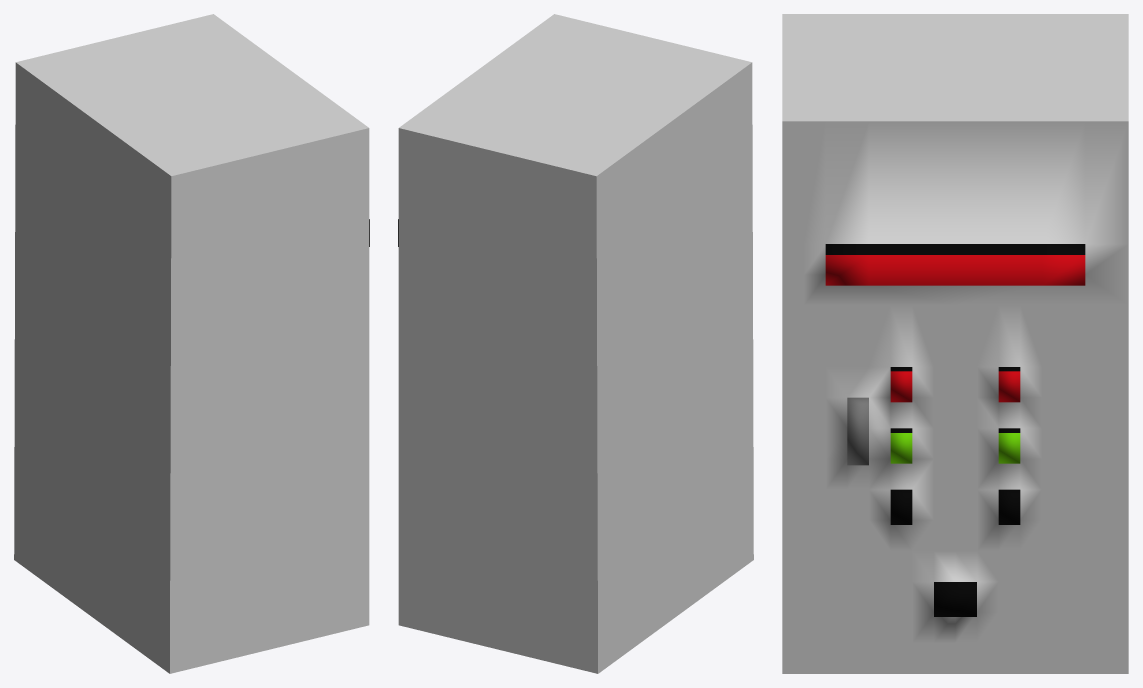
Rendered from Office machinery.fbx.
3 views of the same model, side by side, from view 1: azimuth 30°, elevation 25°; view 2: azimuth 150°, elevation 25°; view 3: azimuth 270°, elevation 25° (orthographic). The views are drawn at different scales.
Parts seen in each view (by area): view 1: Cube; view 2: Cube; view 3: Cube.
Boxes of the visible parts, <box> form: Cube: <box>14,14,369,673</box>; Cube: <box>398,14,753,673</box>; Cube: <box>782,14,1128,673</box>.
Size of the model in its own units: 0.2441 by 0.5286 by 0.3.
